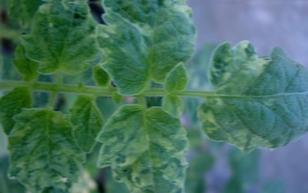Tomato leaf mosaic virus: (199, 37, 308, 153), (90, 0, 195, 93), (95, 101, 192, 193), (4, 96, 87, 193), (21, 0, 103, 79)
